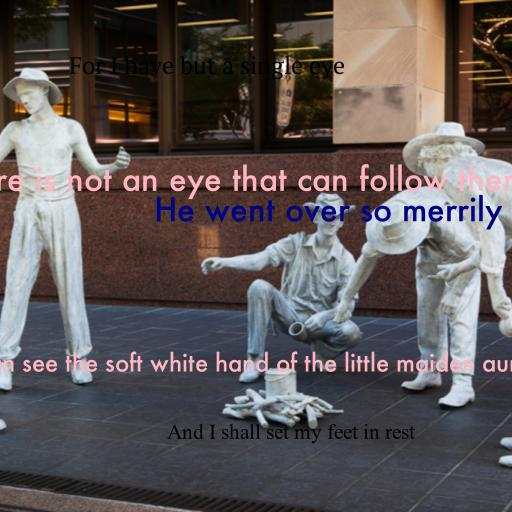Futura: (0, 164, 512, 200), (154, 194, 502, 230), (0, 351, 512, 373)
PT Serif: (69, 55, 345, 80)
Times New Roman: (167, 423, 415, 444)
